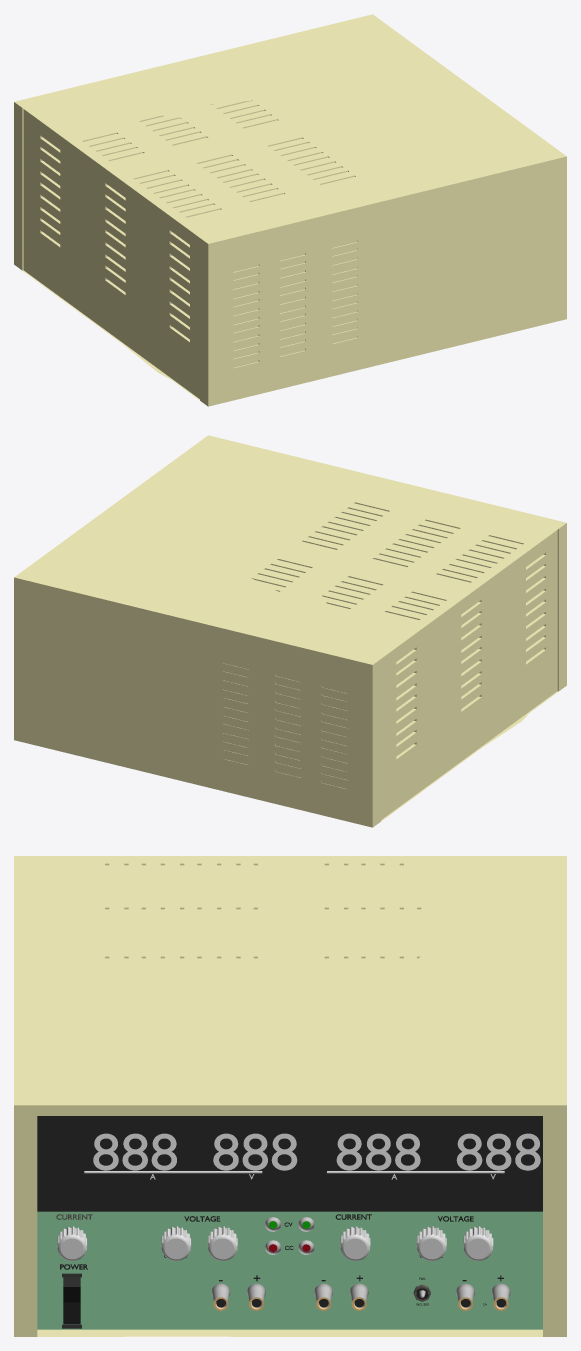
Rendered from power suply dc.fbx.
3 renders of one model, top to bottom at view 1: azimuth 30°, elevation 25°; view 2: azimuth 150°, elevation 25°; view 3: azimuth 270°, elevation 25°, orthographic. The views are drawn at different scales.
Visible parts, largest first — view 1: badan; view 2: badan; view 3: badan, badan.002, badan.001, Text.023, Text.022, Cylinder.018, Cylinder.019, Cylinder.002, Cylinder.008, Cylinder.001, Cylinder.017, Cube.002.
Boxes of the visible parts, x1=… form: badan: x1=14, y1=14, x2=566, y2=406; badan: x1=14, y1=435, x2=566, y2=827; badan: x1=14, y1=856, x2=566, y2=1336; badan.002: x1=37, y1=1211, x2=542, y2=1329; badan.001: x1=37, y1=1116, x2=542, y2=1211; Text.023: x1=336, y1=1133, x2=540, y2=1170; Text.022: x1=93, y1=1133, x2=297, y2=1170; Cylinder.018: x1=463, y1=1226, x2=493, y2=1260; Cylinder.019: x1=340, y1=1226, x2=370, y2=1260; Cylinder.002: x1=57, y1=1226, x2=87, y2=1260; Cylinder.008: x1=207, y1=1226, x2=237, y2=1260; Cylinder.001: x1=161, y1=1226, x2=191, y2=1260; Cylinder.017: x1=416, y1=1226, x2=446, y2=1260; Cube.002: x1=63, y1=1277, x2=80, y2=1324.
Size of the model in its own units: 364 by 154 by 332.
